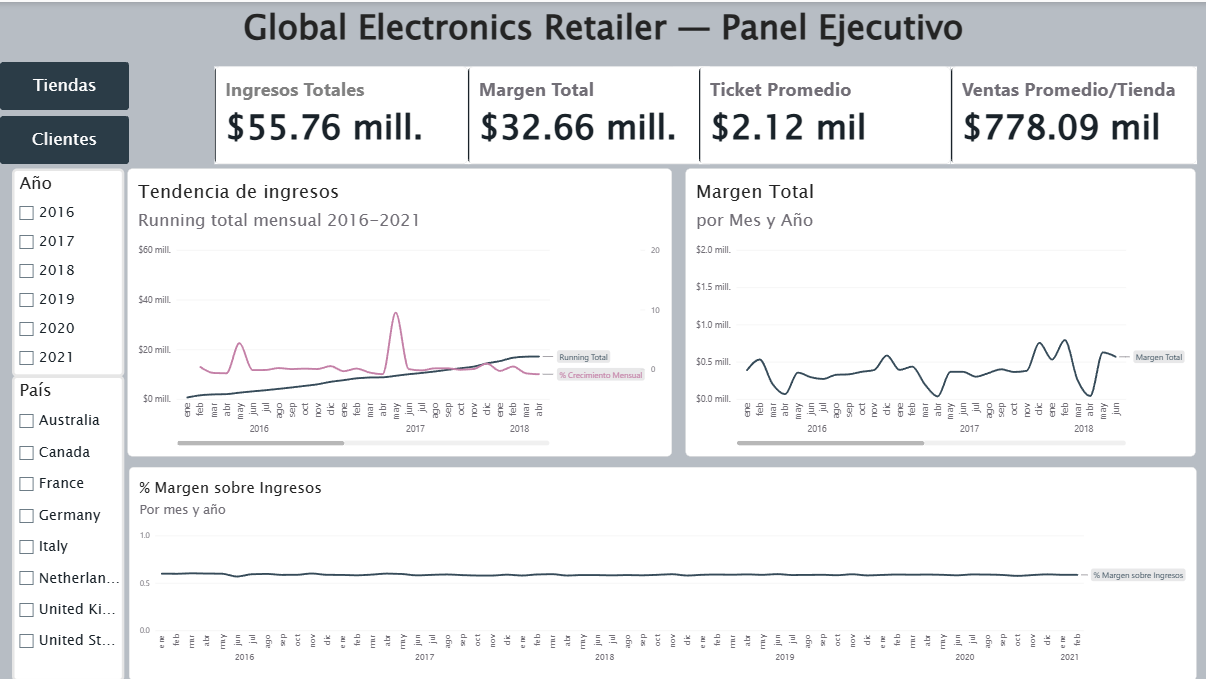

The dashboard page shown, as its layout file describes it:
{"tool":"powerbi","page":{"name":"Resumen","canvas":[1920,1080],"ordinal":0},"visuals":[{"type":"cardVisual","fields":{"Data":["Medidas.Ingresos Totales"]},"box":[341.2,102.6,403.2,155.1],"z":0},{"type":"lineChart","title":"Tendencia de ingresos","fields":{"Y":["Medidas.Running Total"],"Category":["Calendar.Year","Calendar.Month"],"Y2":["Medidas.% Crecimiento Mensual"]},"box":[202.8,264.8,866.1,458.1],"z":1000},{"type":"cardVisual","fields":{"Data":["Medidas.Margen Total"]},"box":[744.4,102.6,384.1,155.1],"z":2000},{"type":"cardVisual","fields":{"Data":["Medidas.Ticket Promedio"]},"box":[1111.8,102.6,400.8,155.1],"z":3000},{"type":"cardVisual","fields":{"Data":["Medidas.Ventas Promedio por Tienda"]},"box":[1512.7,102.6,391.3,155.1],"z":4000},{"type":"lineChart","title":"Margen Total ","fields":{"Y":["Medidas.Margen Total"],"Category":["Calendar.Year","Calendar.Month"]},"box":[1090.4,264.8,811.2,458.1],"z":5000},{"type":"lineChart","title":"% Margen sobre Ingresos","fields":{"Category":["Calendar.Year","Calendar.Month"],"Y":["Medidas.% Margen sobre Ingresos"]},"box":[204.1,739.8,1698,340.2],"z":6000},{"type":"actionButton","box":[0,95.4,205.2,76.3],"z":7000},{"type":"actionButton","box":[0,181.3,205.2,76.3],"z":8000},{"type":"slicer","fields":{"Values":["Calendar.Year"]},"box":[19.1,264.8,178.9,331.6],"z":10000},{"type":"slicer","fields":{"Values":["Customers.Country"]},"box":[19.1,594.1,178.9,486.7],"z":10001},{"type":"textbox","box":[367.6,0,1184.9,96.4],"z":10002}]}

Visuals, with their boxes in screenshot pixels (x1, y1, x2, y2), scaled from the page's 1920x1080 canvas onto the 1206x679 screenshot:
cardVisual - Medidas.Ingresos Totales: (left=214, top=65, right=468, bottom=162)
"Tendencia de ingresos" lineChart: (left=127, top=166, right=671, bottom=454)
cardVisual - Medidas.Margen Total: (left=468, top=65, right=709, bottom=162)
cardVisual - Medidas.Ticket Promedio: (left=698, top=65, right=950, bottom=162)
cardVisual - Medidas.Ventas Promedio por Tienda: (left=950, top=65, right=1196, bottom=162)
"Margen Total " lineChart: (left=685, top=166, right=1194, bottom=454)
"% Margen sobre Ingresos" lineChart: (left=128, top=465, right=1195, bottom=678)
actionButton: (left=0, top=60, right=129, bottom=108)
actionButton: (left=0, top=114, right=129, bottom=162)
slicer - Calendar.Year: (left=12, top=166, right=124, bottom=375)
slicer - Customers.Country: (left=12, top=374, right=124, bottom=678)
textbox: (left=231, top=0, right=975, bottom=61)
